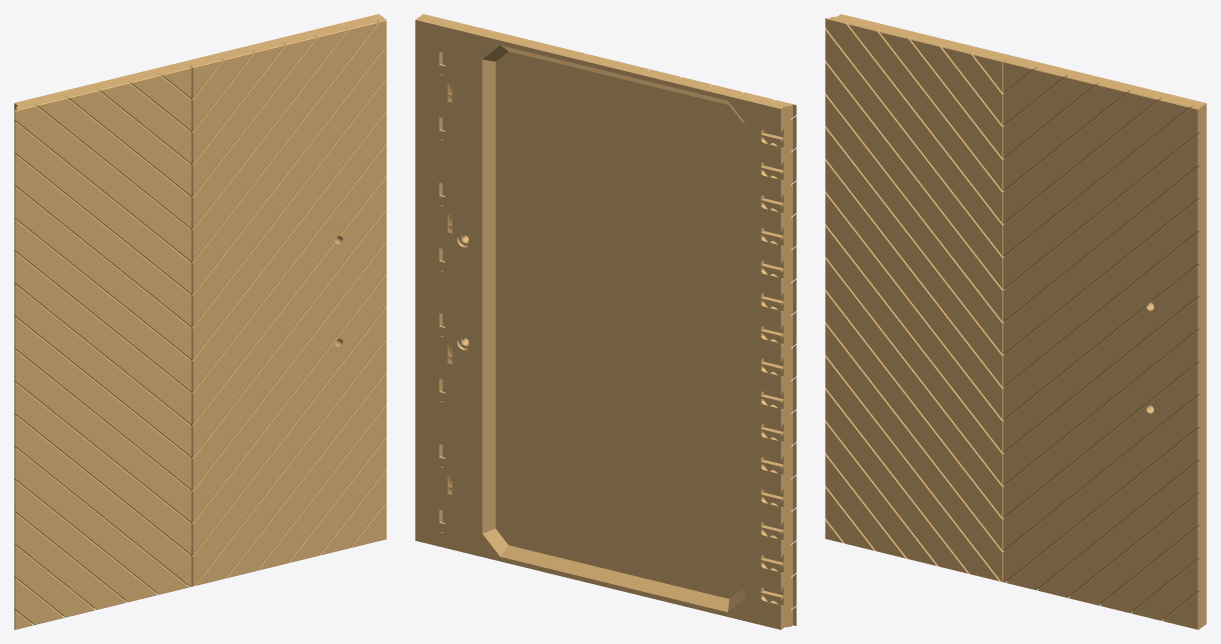
The model's file is Door_Chevron_2W-4H.lib.glb.
The picture shows the model from 3 angles, left to right: view 1: azimuth 30°, elevation 25°; view 2: azimuth 150°, elevation 25°; view 3: azimuth 330°, elevation 25°; orthographic projection.
Parts seen in each view (by area): view 1: Door_Chevron_2W-4H; view 2: Door_Chevron_2W-4H; view 3: Door_Chevron_2W-4H.
Part boxes in pixels (<box>): Door_Chevron_2W-4H: <box>14,14,386,629</box>; Door_Chevron_2W-4H: <box>415,14,796,629</box>; Door_Chevron_2W-4H: <box>825,14,1206,629</box>.
Bounding box in the file's own units: 167 × 223 × 6.51.
